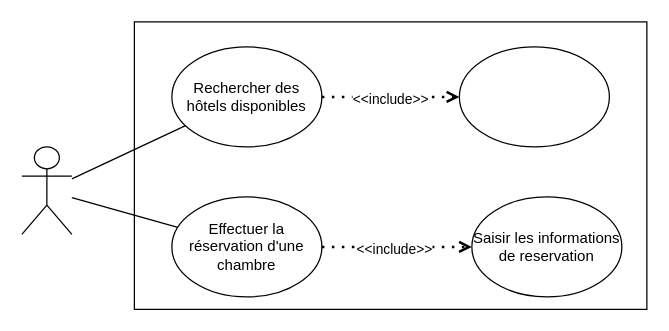
Image size: 669x331. Some labels were removed from this diagram. The centre of each missing label's shape, as x and y in pixels:
"Client" goes at [46,190].
"Saisir les informations de recherche" goes at [533,96].
